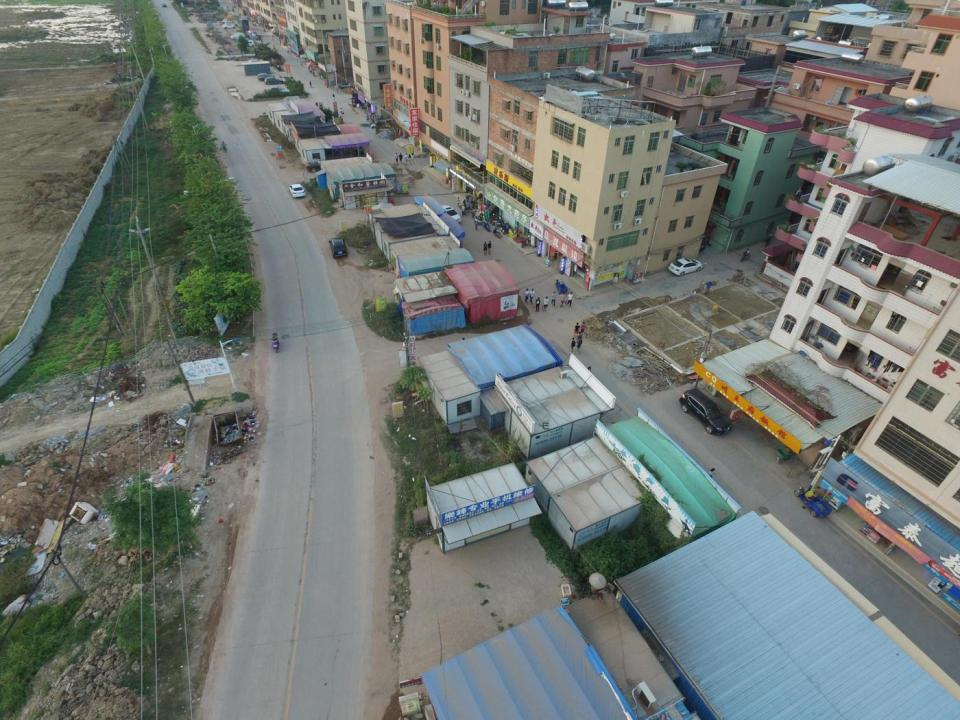car: (679, 388, 732, 434), (668, 259, 703, 277), (439, 203, 461, 226), (328, 237, 350, 259), (306, 158, 328, 173), (288, 183, 305, 200), (257, 73, 275, 81), (265, 78, 283, 85), (229, 33, 246, 39), (222, 24, 237, 29), (224, 21, 237, 26)
van: (161, 2, 167, 7)
